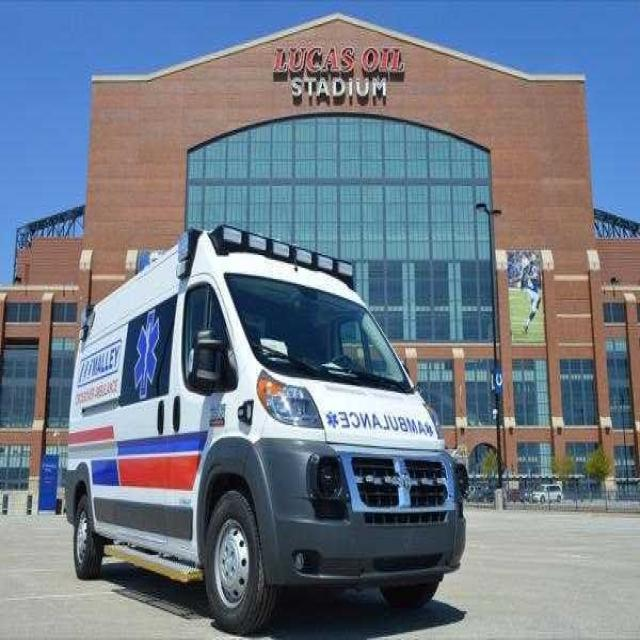ambulance: (52, 241, 558, 640)
